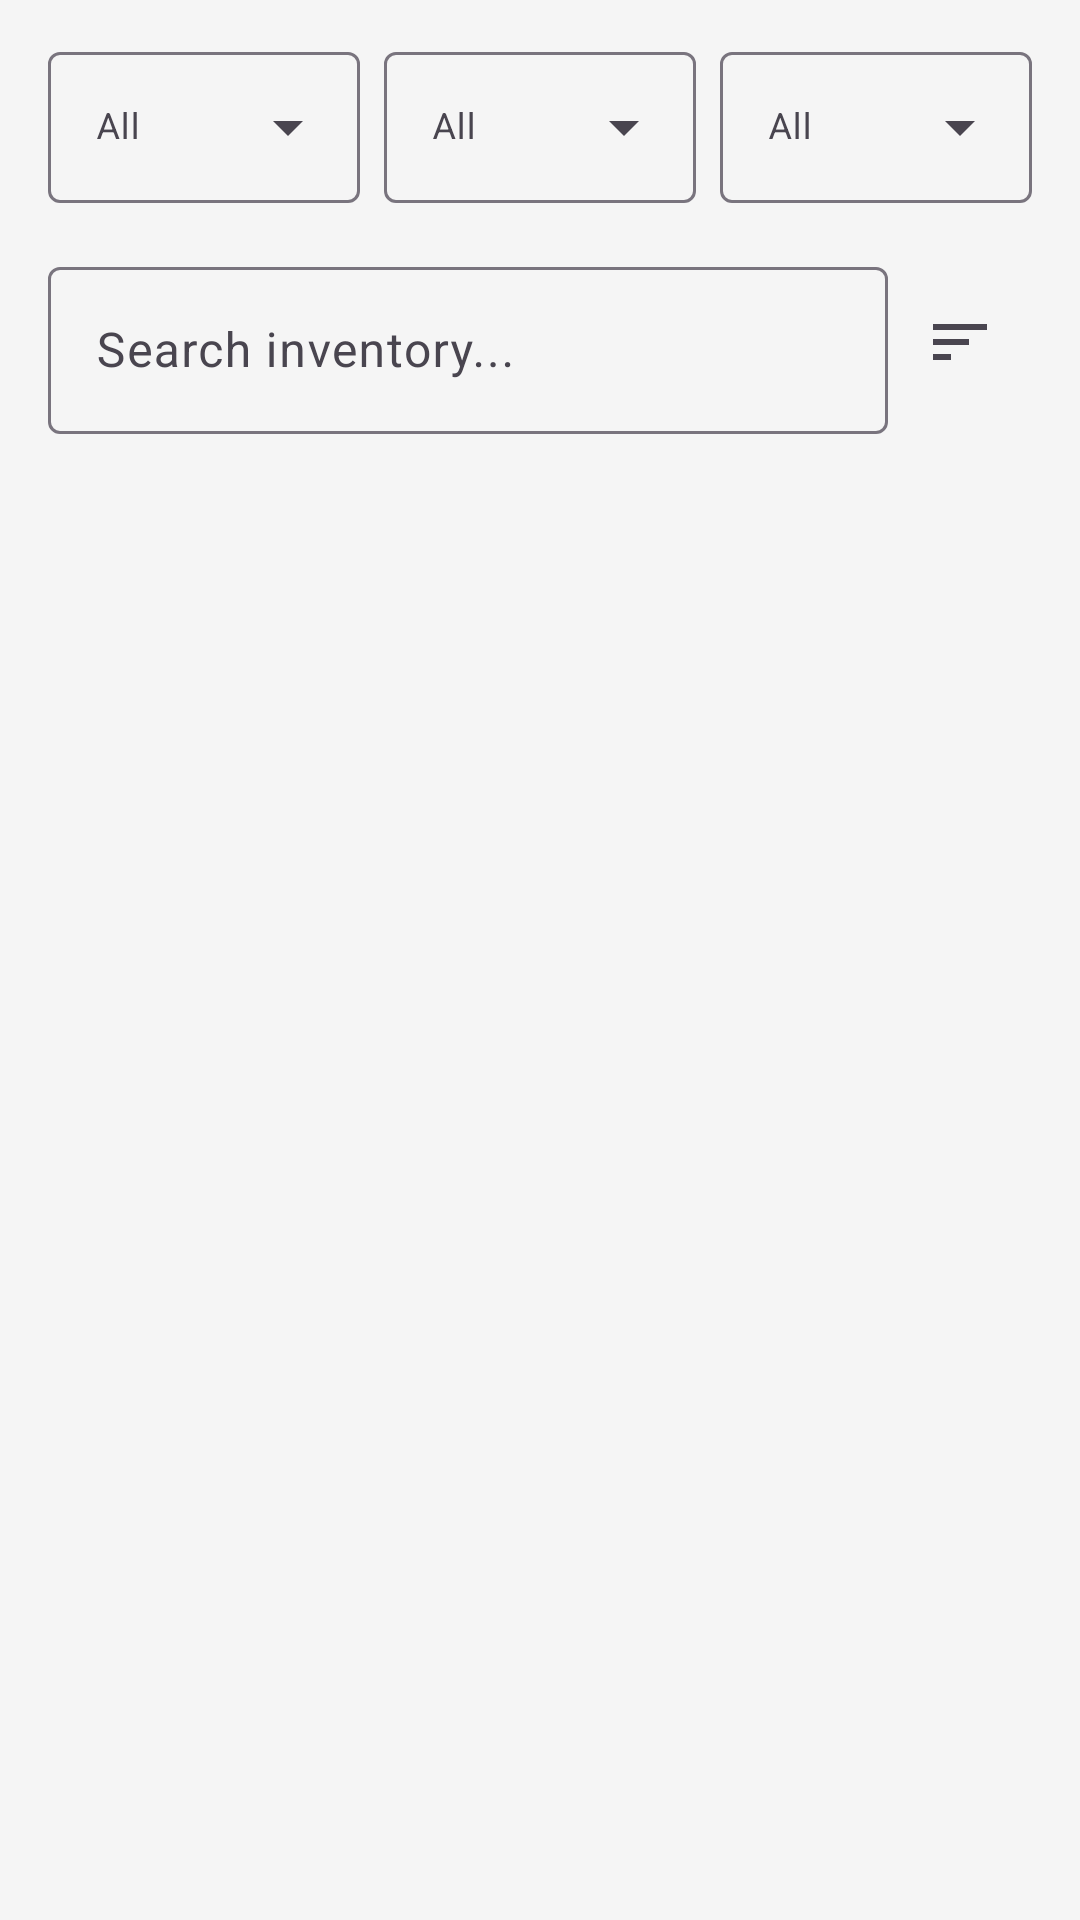

Where to tap for icons on this 1080*1920 app screen, as (x,y):
Sort by expiry: (960,342)
